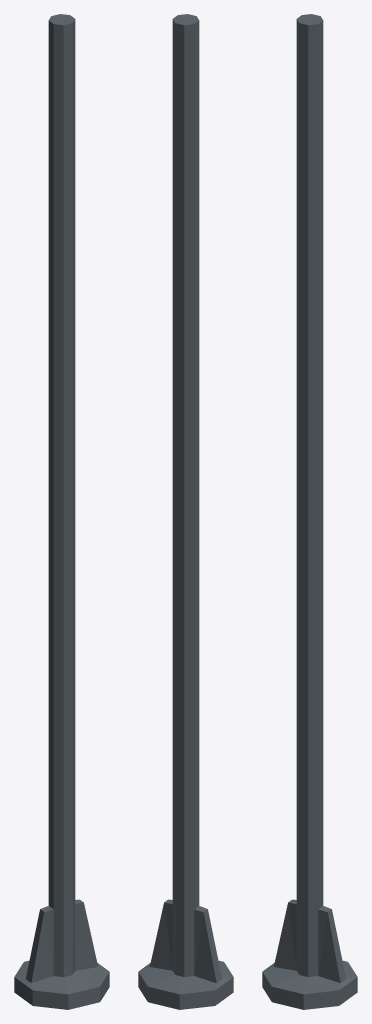
Rendered from SM_Prop_SIgn_Pole_01.fbx.
3 views of the same model, side by side, from view 1: azimuth 30°, elevation 25°; view 2: azimuth 150°, elevation 25°; view 3: azimuth 330°, elevation 25° (orthographic).
Parts seen in each view (by area): view 1: SM_Prop_SIgn_Pole_01; view 2: SM_Prop_SIgn_Pole_01; view 3: SM_Prop_SIgn_Pole_01.
Part boxes in pixels (<box>): SM_Prop_SIgn_Pole_01: <box>14,14,109,1009</box>; SM_Prop_SIgn_Pole_01: <box>138,14,233,1009</box>; SM_Prop_SIgn_Pole_01: <box>262,14,357,1009</box>.
Bounding box in the file's own units: 50.01 × 603 × 50.01.
